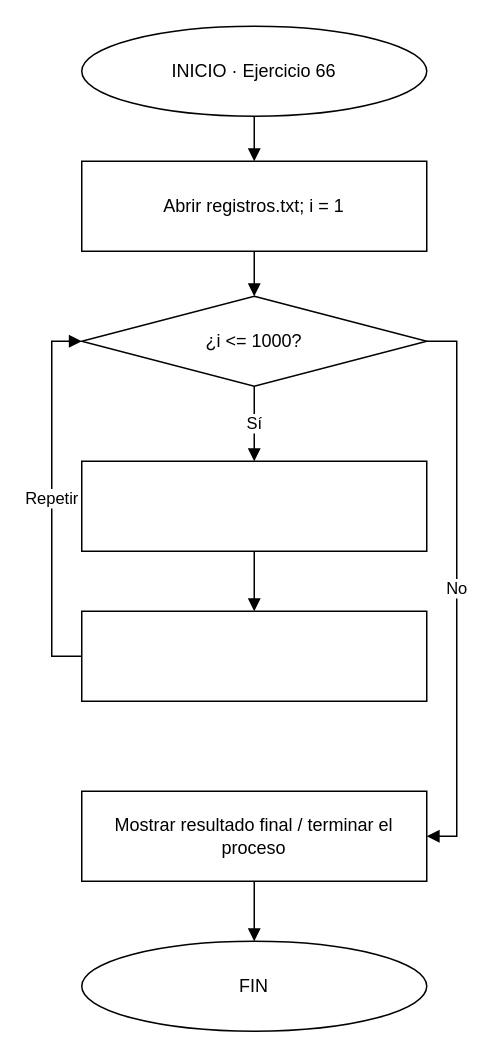
The diagram is 495 pixels wide and 1058 high, and some of its shapes have lost their labels. The shapes that lost their labels are listed below. From the top down, each one's box as (x1, y1, x2, y2) in pixels, then its label:
(80, 460, 427, 551): Leer dato y escribir i;dato
(80, 610, 427, 701): i = i + 1; cerrar al terminar
